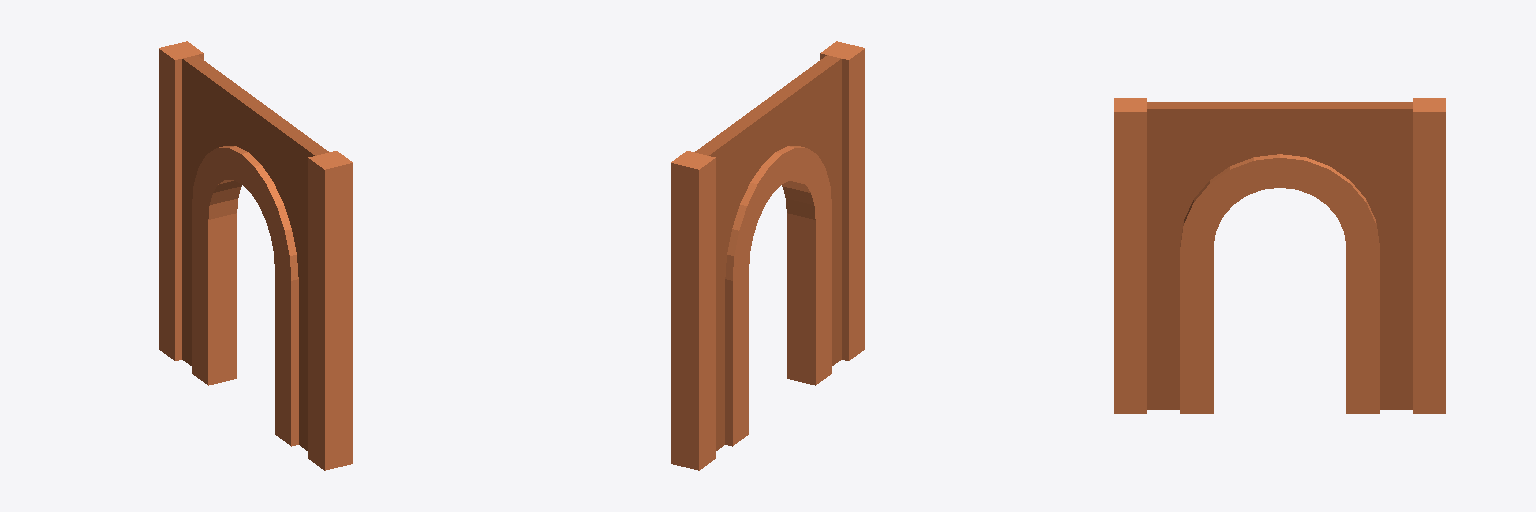
File: wallWoodNODoor.obj
The picture shows the model from 3 angles: view 1: azimuth 30°, elevation 25°; view 2: azimuth 150°, elevation 25°; view 3: azimuth 270°, elevation 25°; orthographic projection.
Parts seen in each view (by area): view 1: wallWoodDoor; view 2: wallWoodDoor; view 3: wallWoodDoor.
Part boxes in pixels (left/top/right/bottom): wallWoodDoor: left=159, top=41, right=352, bottom=470; wallWoodDoor: left=671, top=41, right=864, bottom=470; wallWoodDoor: left=1114, top=98, right=1445, bottom=413.
Size of the model in its own units: 0.1 by 1 by 1.